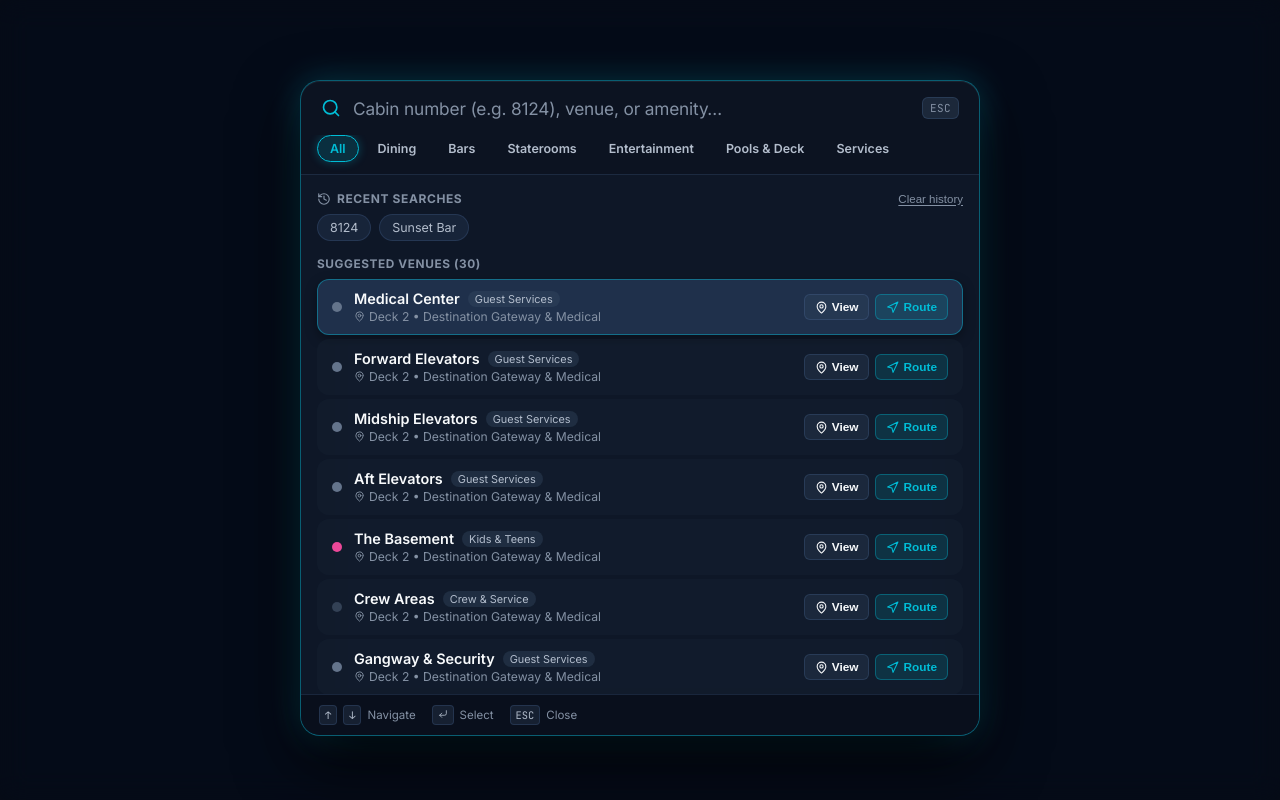
Test case: SearchCommandPalette › manages recent searches and clear history
The image size is (1280, 800).
Expected: the button "8124" is shown, [317,214,371,241]
Expected: the button "Sunset Bar" is shown, [379,214,469,241]
Click the button with aria-label "Clear recent searches".
click(931, 198)  # box [898,192,963,204]
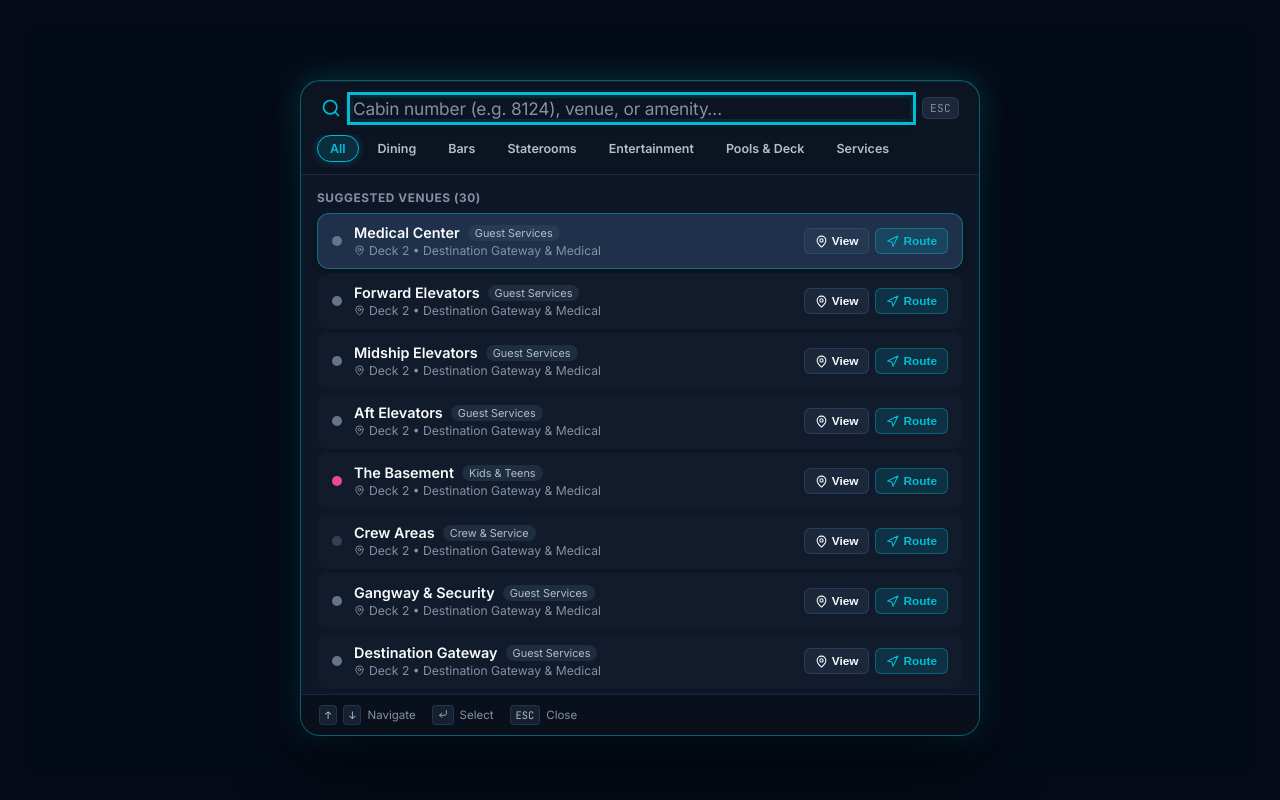
Result: the button "Sunset Bar" is gone
